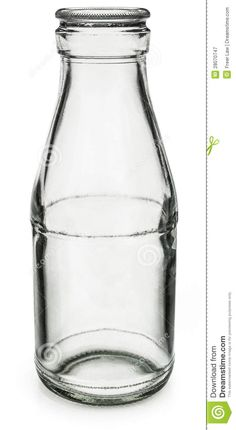emptybottle: (32, 8, 176, 405)
